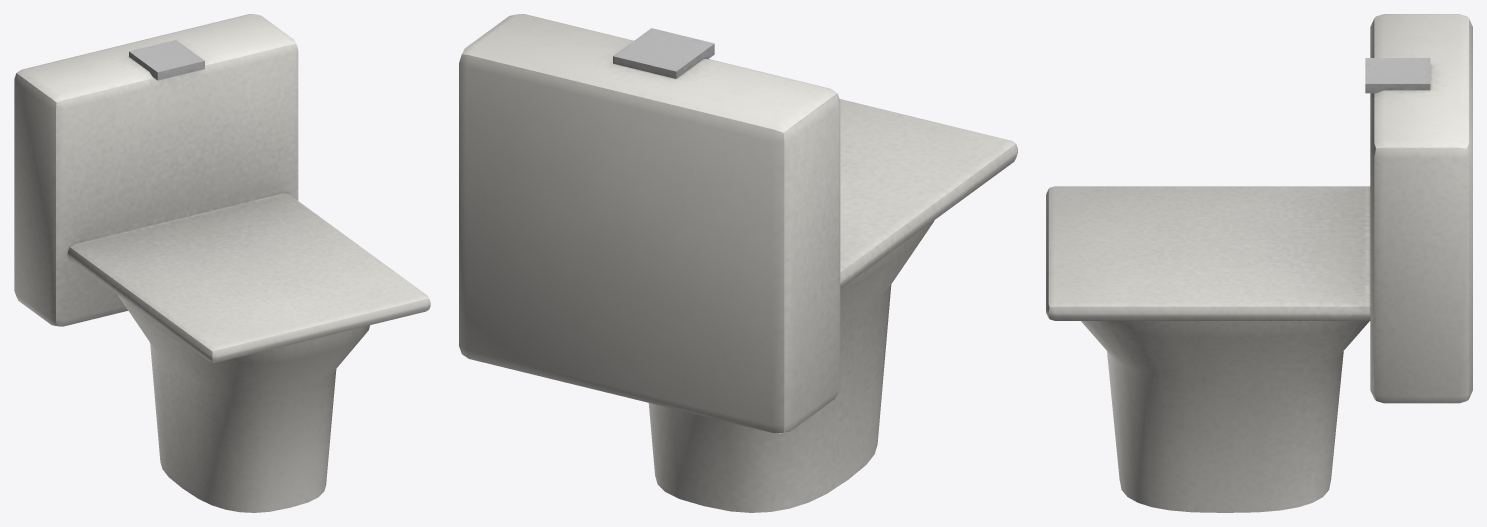
Rendered from H_Toilet.fbx.
The picture shows the model from 3 angles, left to right: view 1: azimuth 30°, elevation 25°; view 2: azimuth 150°, elevation 25°; view 3: azimuth 270°, elevation 25°; orthographic projection. The views are drawn at different scales.
Visible parts, largest first — view 1: H_Toilet; view 2: H_Toilet; view 3: H_Toilet.
Part boxes in pixels (box(x1,y1,x2,y2)): H_Toilet: box(14, 14, 430, 512); H_Toilet: box(459, 14, 1017, 512); H_Toilet: box(1046, 14, 1472, 512).
Size of the model in its own units: 190 by 264 by 250.
1 material, 1 textured.
